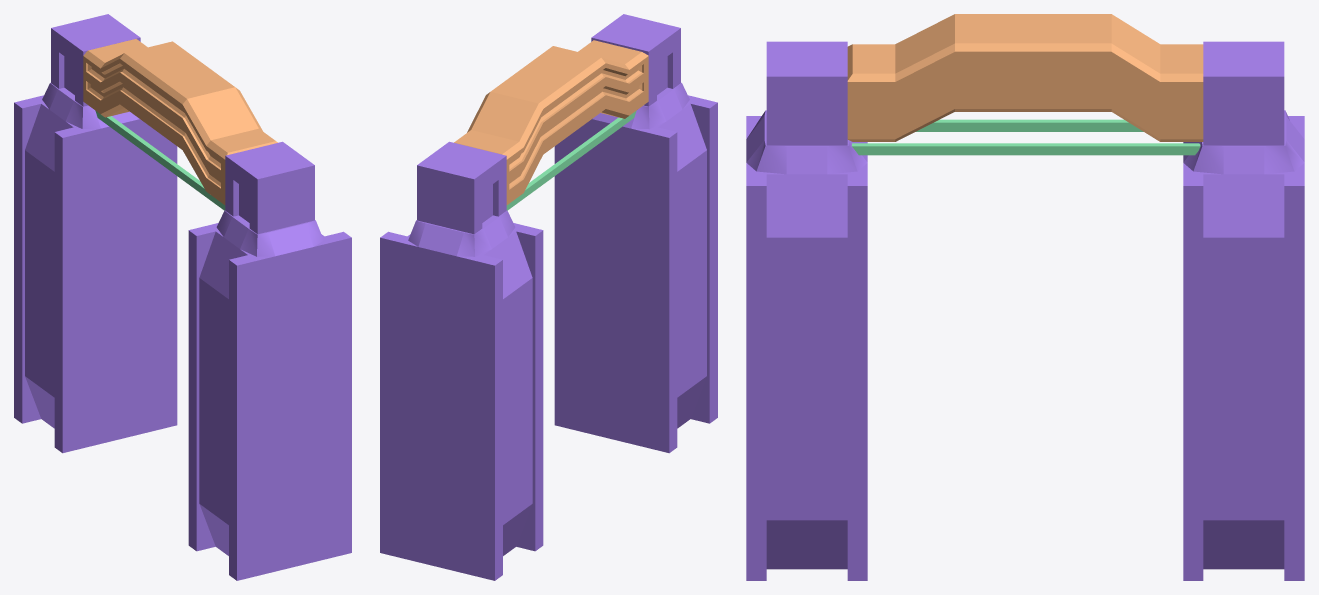
Rendered from gate.fbx.
3 renders of one model, left to right at view 1: azimuth 30°, elevation 25°; view 2: azimuth 150°, elevation 25°; view 3: azimuth 270°, elevation 25°, orthographic. The views are drawn at different scales.
Visible parts, largest first — view 1: PM3D_Cylinder3D_4; view 2: PM3D_Cylinder3D_4; view 3: PM3D_Cylinder3D_4.
Part boxes in pixels (x1,y1,x2,y2): PM3D_Cylinder3D_4: (14, 14, 351, 580); PM3D_Cylinder3D_4: (380, 14, 717, 580); PM3D_Cylinder3D_4: (746, 14, 1304, 580).
Size of the model in its own units: 0.5472 by 1.88 by 1.84.
